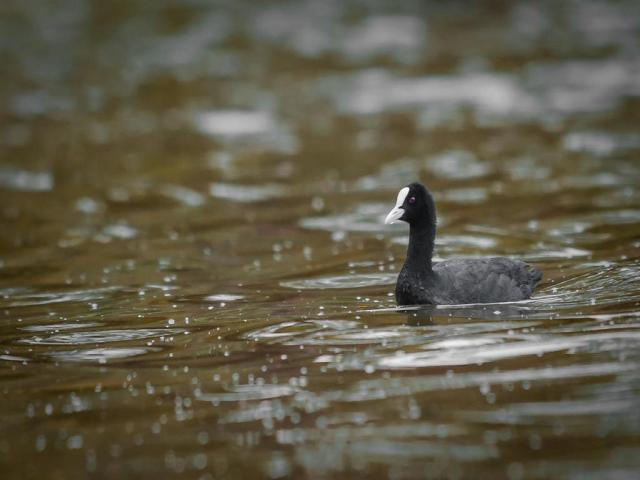Bird: (378, 182, 544, 315)
